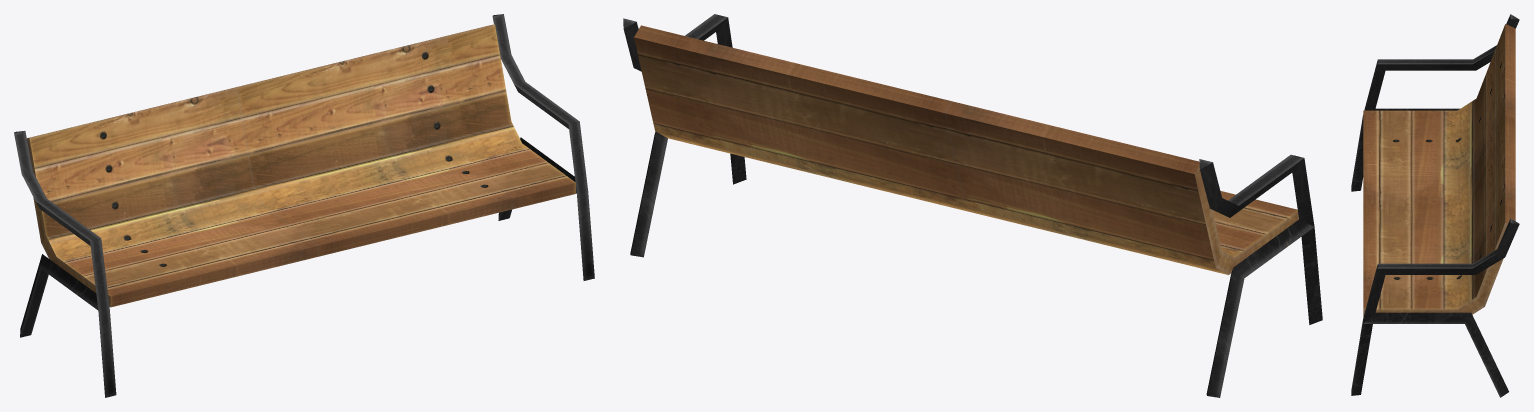
File: bench.FBX
3 renders of one model, left to right at view 1: azimuth 30°, elevation 25°; view 2: azimuth 150°, elevation 25°; view 3: azimuth 270°, elevation 25°, orthographic. The views are drawn at different scales.
Visible parts, largest first — view 1: bench; view 2: bench; view 3: bench.
Boxes of the visible parts, box(x1,y1,x2,y2) form: bench: box(14, 14, 594, 397); bench: box(623, 14, 1322, 397); bench: box(1351, 14, 1519, 397).
Size of the model in its own units: 92.58 by 36.12 by 31.54.
